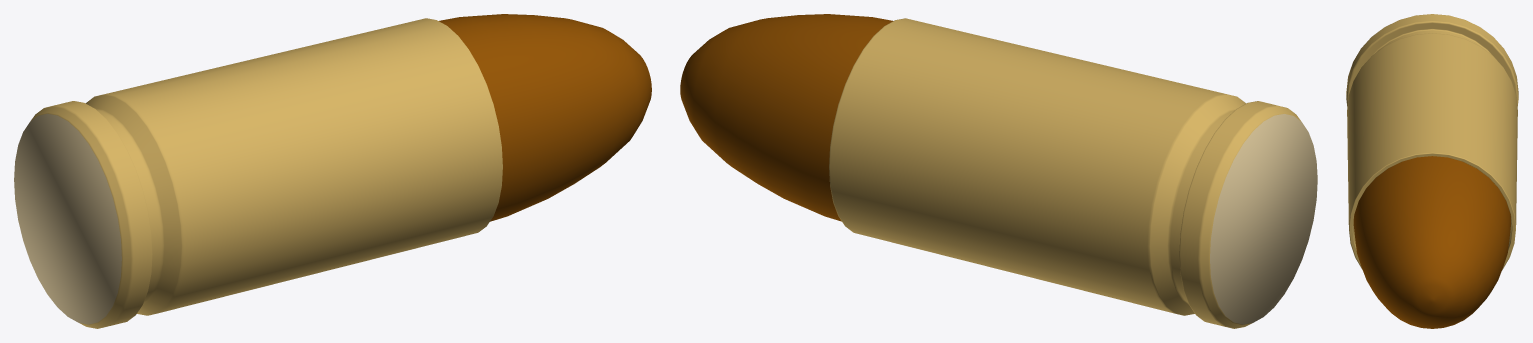
Rendered from 9x19mm_Round.fbx.
3 renders of one model, left to right at view 1: azimuth 30°, elevation 25°; view 2: azimuth 150°, elevation 25°; view 3: azimuth 270°, elevation 25°, orthographic. The views are drawn at different scales.
Parts seen in each view (by area): view 1: Casing, Bullet; view 2: Casing, Bullet; view 3: Casing, Bullet.
Part boxes in pixels (bbox=[...]): Casing: bbox=[14, 18, 502, 328]; Bullet: bbox=[439, 14, 651, 221]; Casing: bbox=[829, 18, 1317, 328]; Bullet: bbox=[680, 14, 892, 221]; Casing: bbox=[1346, 14, 1518, 270]; Bullet: bbox=[1353, 156, 1510, 328].
Size of the model in its own units: 2.7 by 0.9268 by 0.9268.
